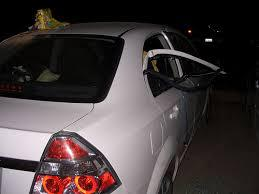Rear-windscreen-Damage: (8, 36, 104, 96)
